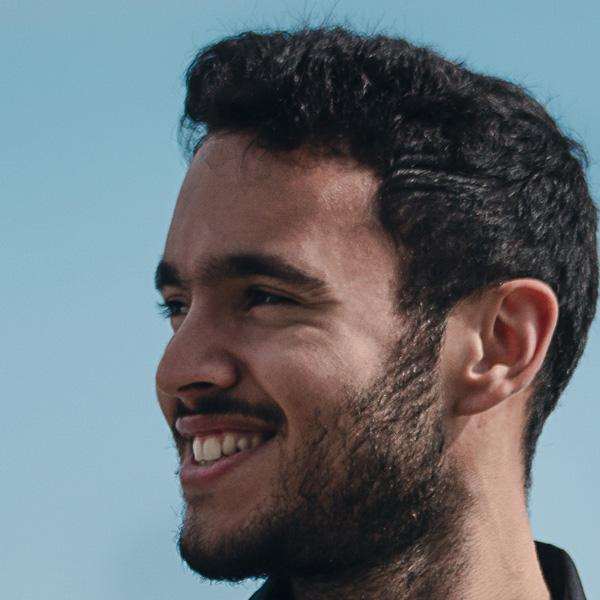Eyes: (228, 274, 311, 324), (160, 282, 208, 329)
